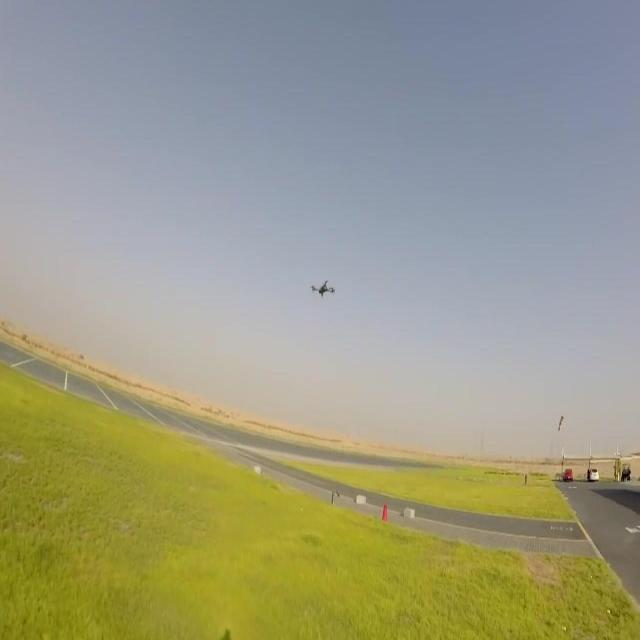drone: (311, 278, 337, 303)
